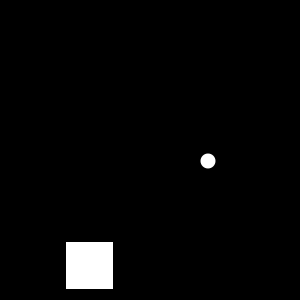circle: (66, 242, 113, 289)
rectangle: (200, 153, 216, 168)
